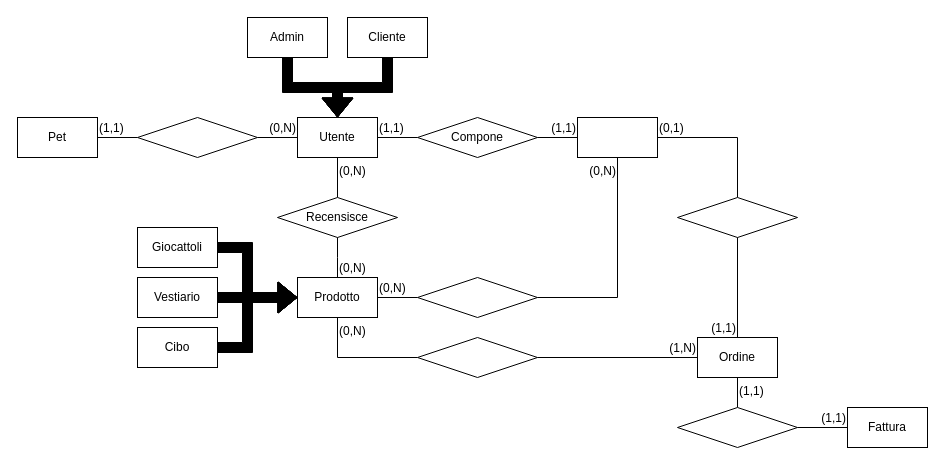
This 945x465 diagram has some shape labels left out. The shapes that lost their labels are listed below. From the top down, each one's box as (x1, y1, x2, y2) in pixels, then its label:
(136, 116, 258, 158): Possiede
(576, 116, 658, 158): Carrello
(676, 196, 798, 238): Finalizza
(416, 276, 538, 318): Composto
(416, 336, 538, 378): Contiene
(676, 406, 798, 448): Collegata
